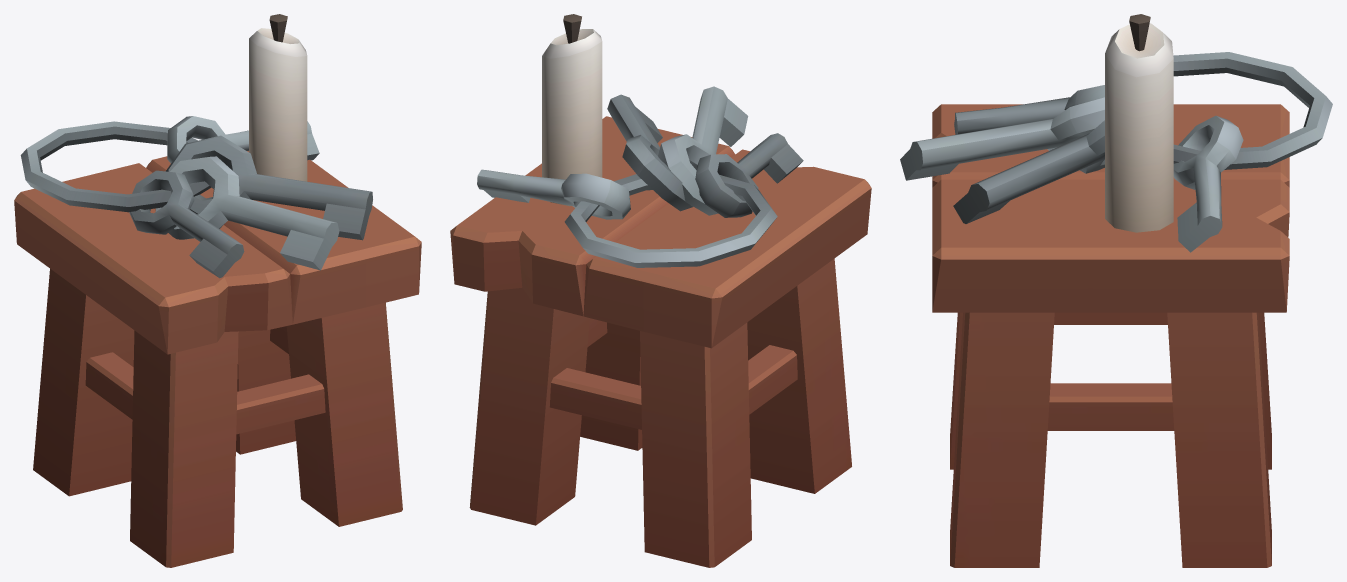
Rendered from table_small_decorated_A.glb.
The picture shows the model from 3 angles, left to right: view 1: azimuth 30°, elevation 25°; view 2: azimuth 150°, elevation 25°; view 3: azimuth 270°, elevation 25°; orthographic projection. The views are drawn at different scales.
Visible parts, largest first — view 1: table_small_decorated_A; view 2: table_small_decorated_A; view 3: table_small_decorated_A.
Part boxes in pixels (box(x1,y1,x2,y2)): table_small_decorated_A: box(14, 14, 421, 567); table_small_decorated_A: box(450, 14, 871, 567); table_small_decorated_A: box(900, 14, 1332, 567).
Bounding box in the file's own units: 1.04 × 1.62 × 1.21.
1 material, 1 textured.
